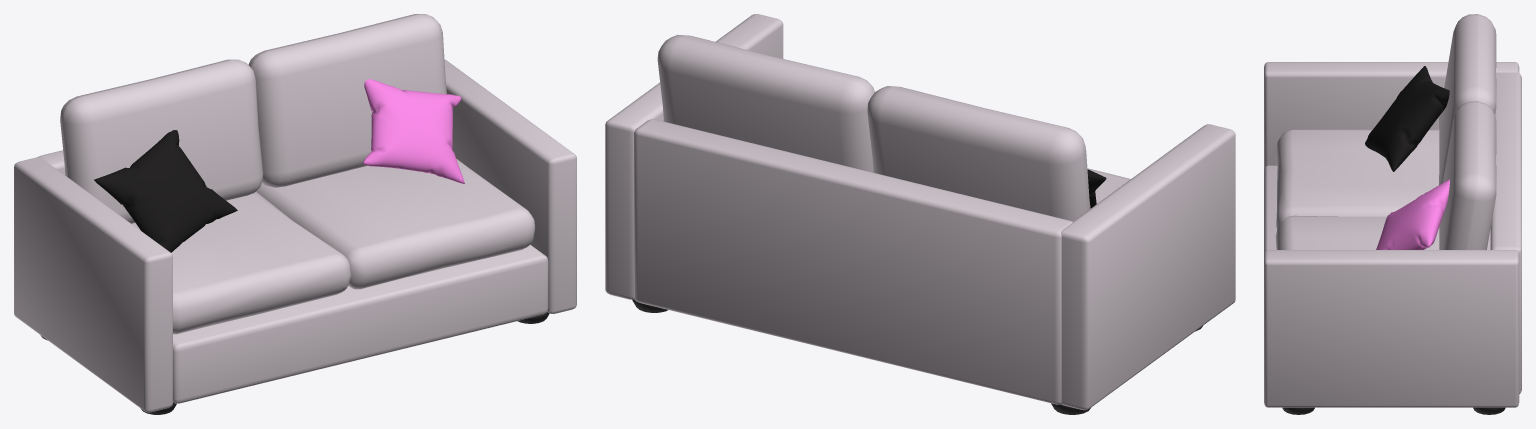
The model's file is white black and pink couch.fbx.
3 renders of one model, left to right at view 1: azimuth 30°, elevation 25°; view 2: azimuth 150°, elevation 25°; view 3: azimuth 270°, elevation 25°, orthographic. The views are drawn at different scales.
Parts seen in each view (by area): view 1: Cube; view 2: Cube; view 3: Cube.
Part boxes in pixels (x1,y1,x2,y2): Cube: [14, 14, 576, 414]; Cube: [605, 14, 1235, 414]; Cube: [1264, 14, 1521, 414].
Bounding box in the file's own units: 228 × 120 × 123.
